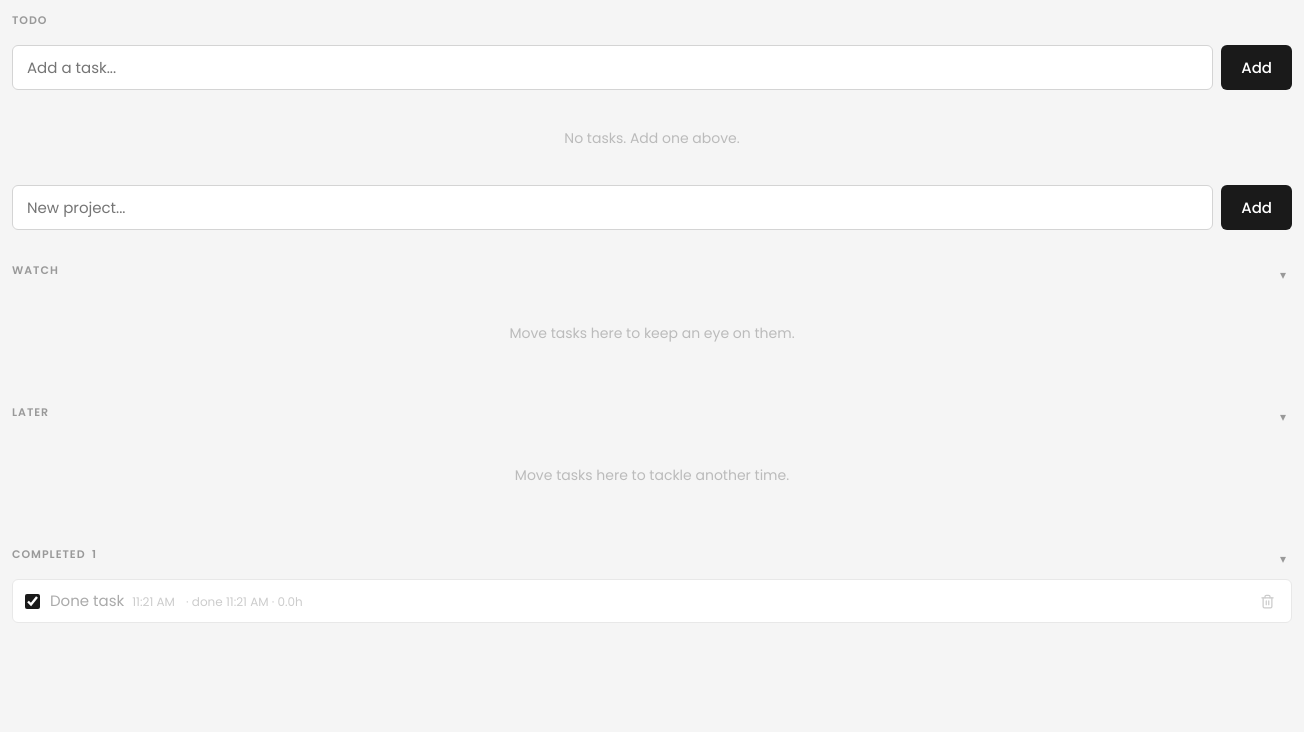
Test case: collapsible Completed section › clicking collapse button again re-shows completed tasks
The image size is (1304, 732).
Click the button named "Collapse Completed": (1283, 558) [1274,548,1292,568]
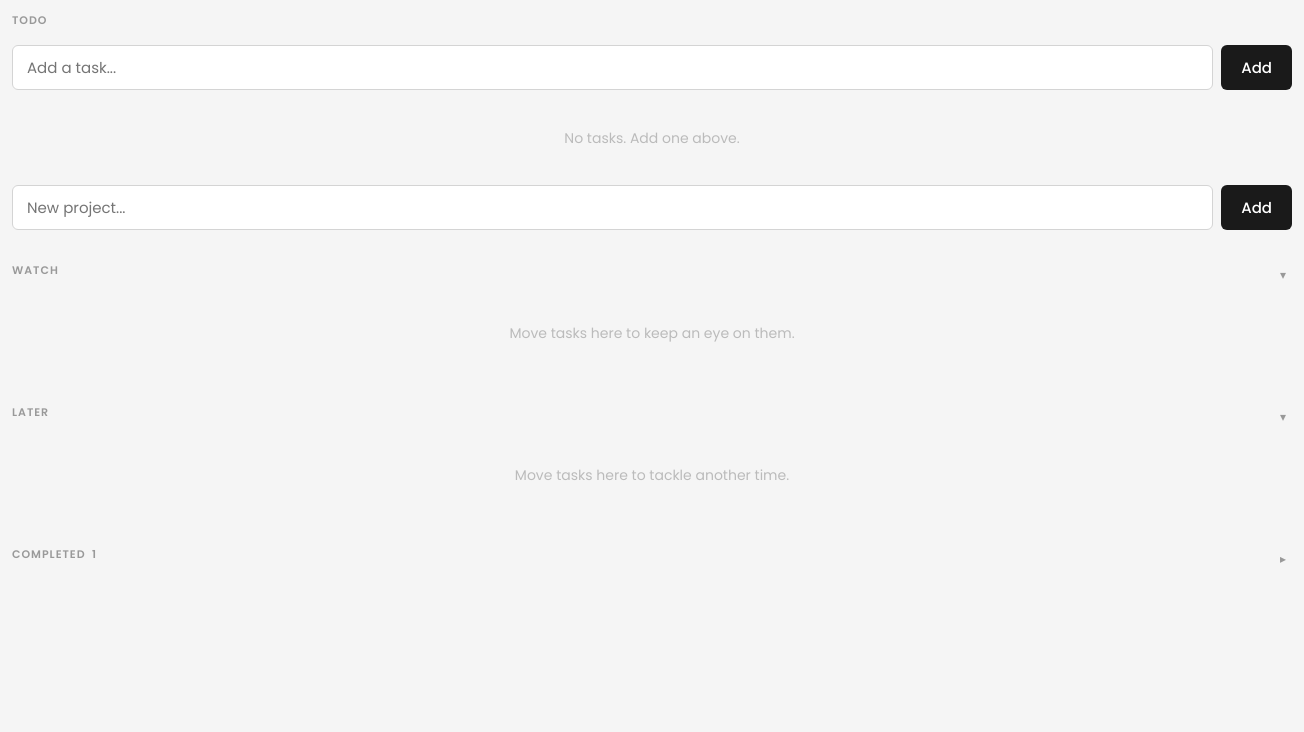
Click the button named "Expand Completed": (1283, 558) [1274,548,1292,568]
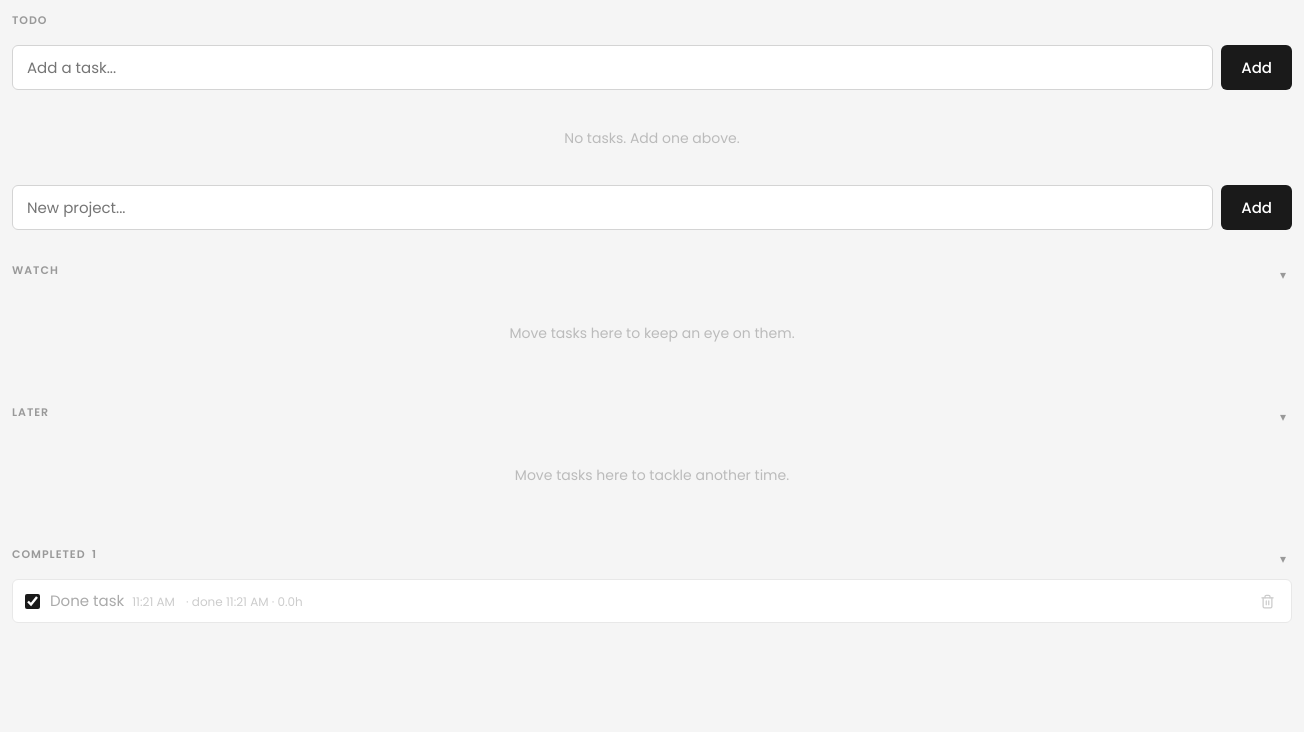
Expected: the text "Done task" is shown, [50,590,124,611]
